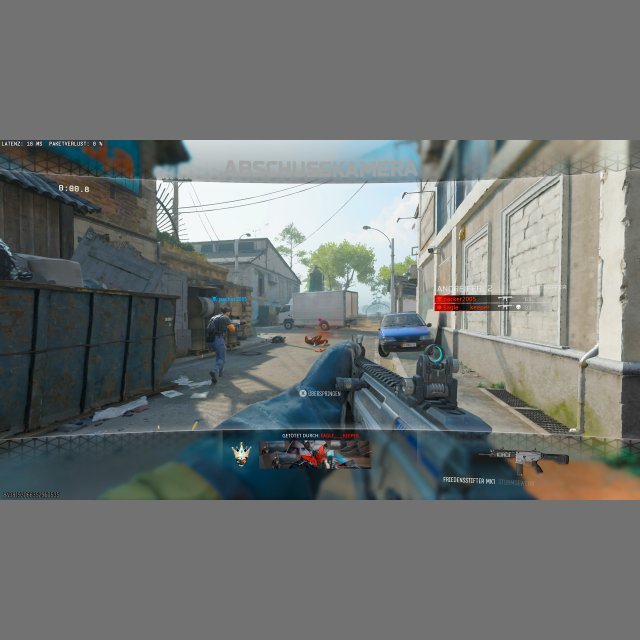head: (221, 305, 232, 315)
player: (205, 305, 242, 385), (304, 334, 329, 348)
